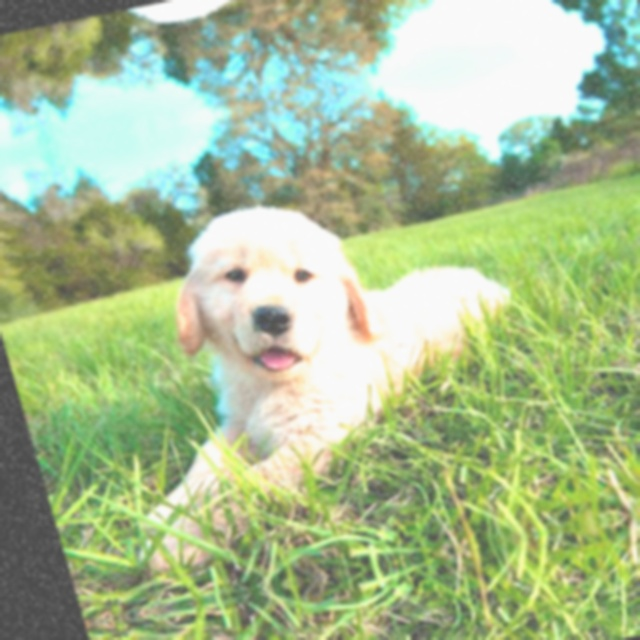dog: (34, 143, 578, 574), (154, 561, 622, 640), (0, 0, 434, 76)
